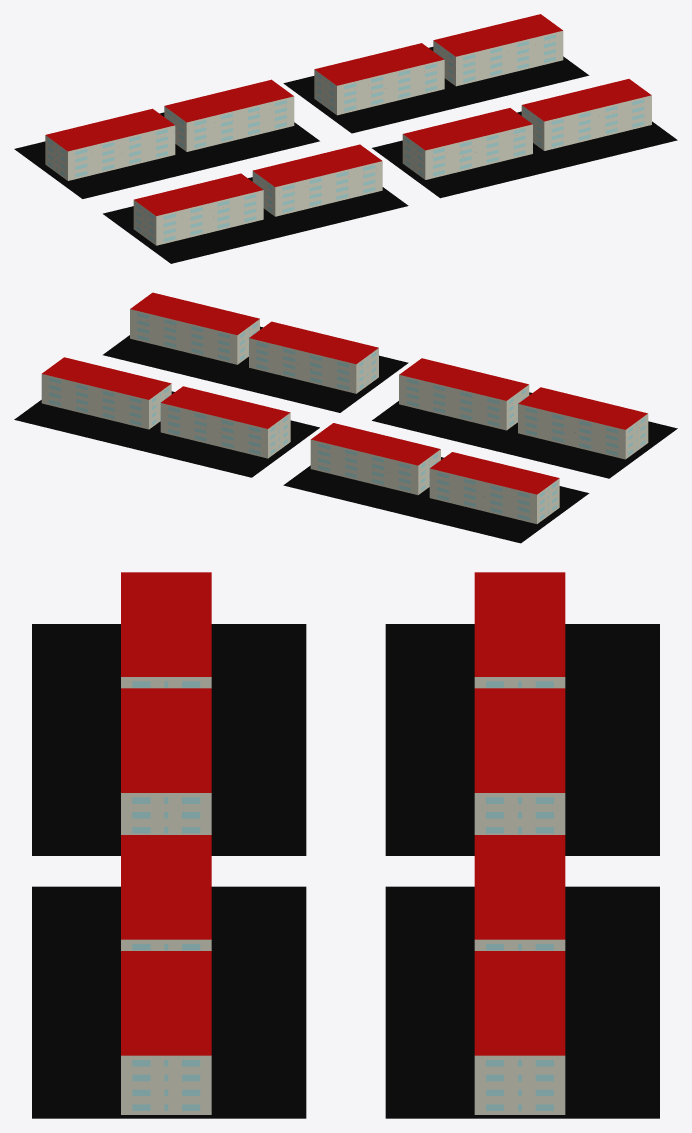
The picture shows the model from 3 angles, top to bottom: view 1: azimuth 30°, elevation 25°; view 2: azimuth 150°, elevation 25°; view 3: azimuth 270°, elevation 25°; orthographic projection. The views are drawn at different scales.
Size of the model in its own units: 218 by 12.19 by 117.
